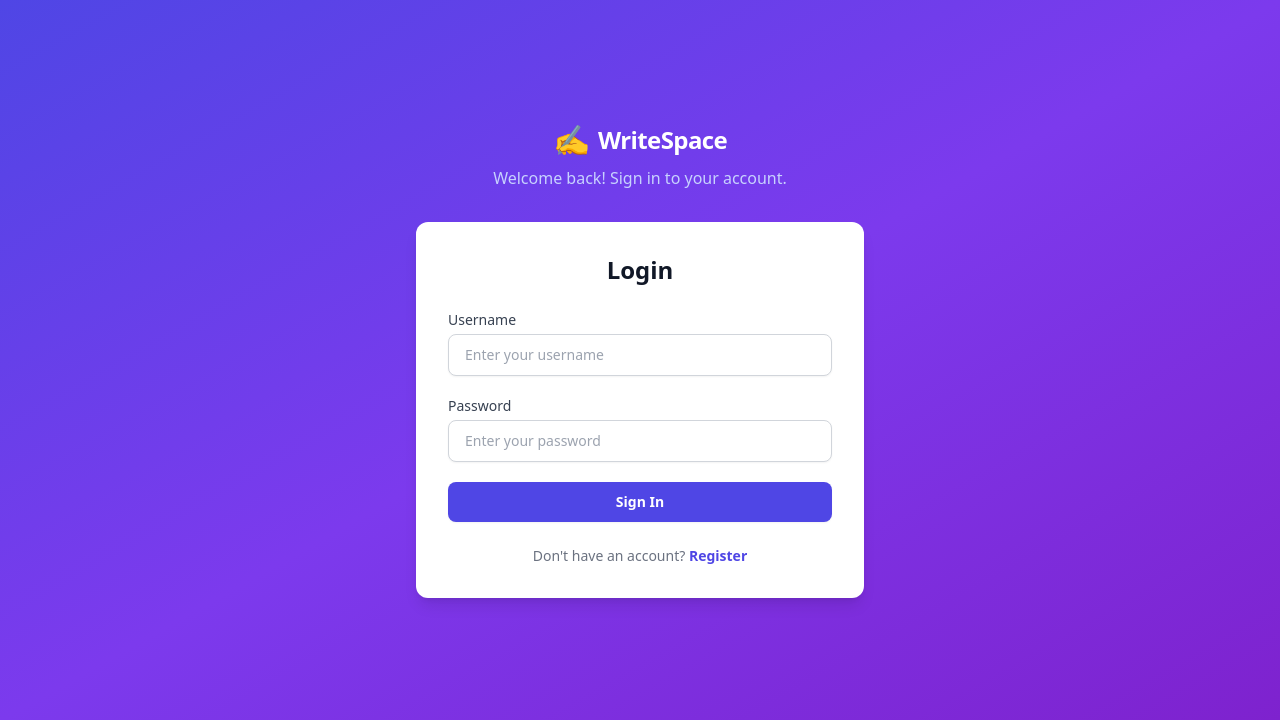
App routing › navigation between pages › navigates from LoginPage to RegisterPage via Register link
What coordinates should you click on to do the following:
click the link "Register"
I would click on:
 (718, 556)
Its box is left=689, top=546, right=747, bottom=565.
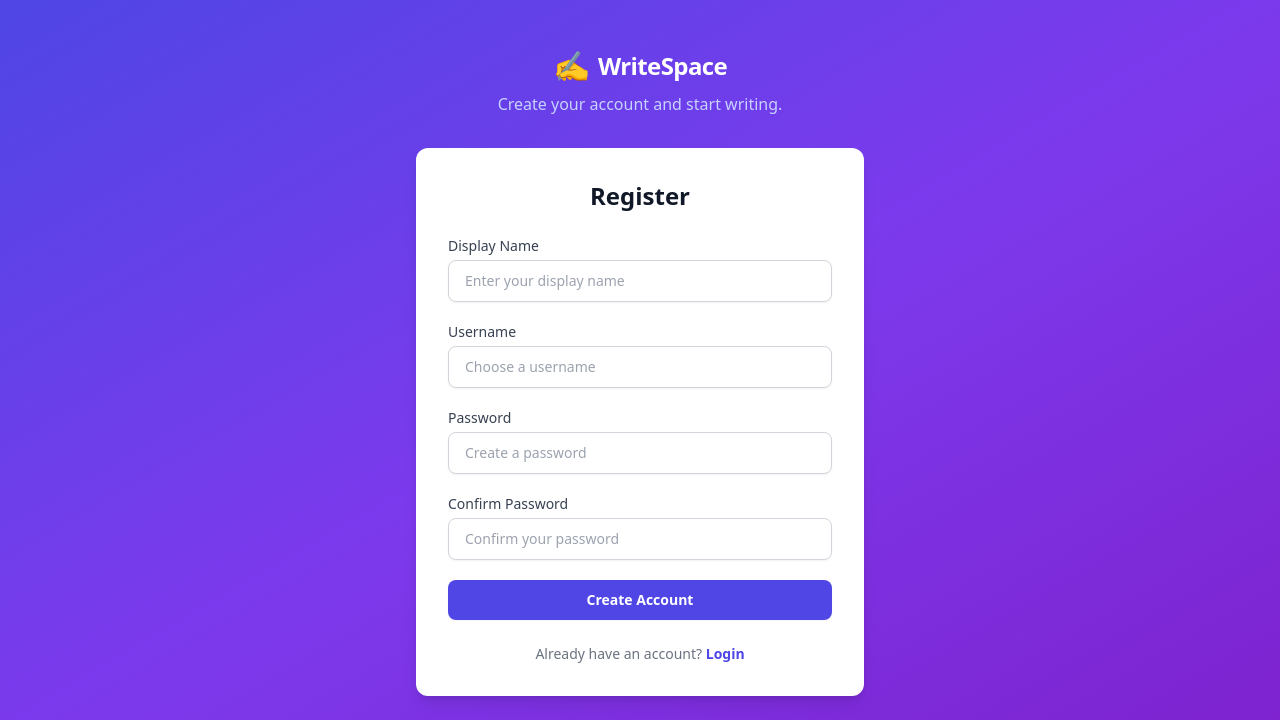
Check: the heading "Register" is shown, box left=590, top=179, right=690, bottom=212
